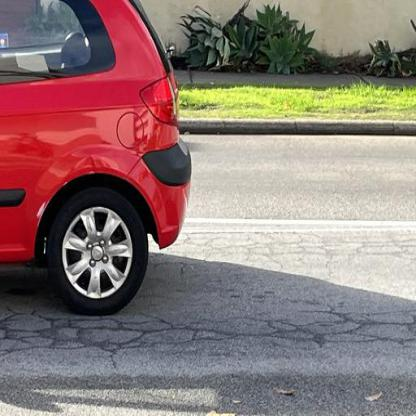Tire: (46, 186, 148, 316)
